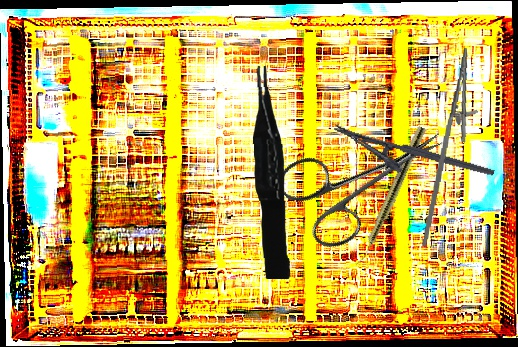Handpiece: (353, 124, 428, 270)
Iris Scissors: (273, 94, 464, 258)
Needle Holder: (420, 45, 485, 251), (327, 123, 495, 199)
Tissue Forceps: (252, 65, 290, 280)
